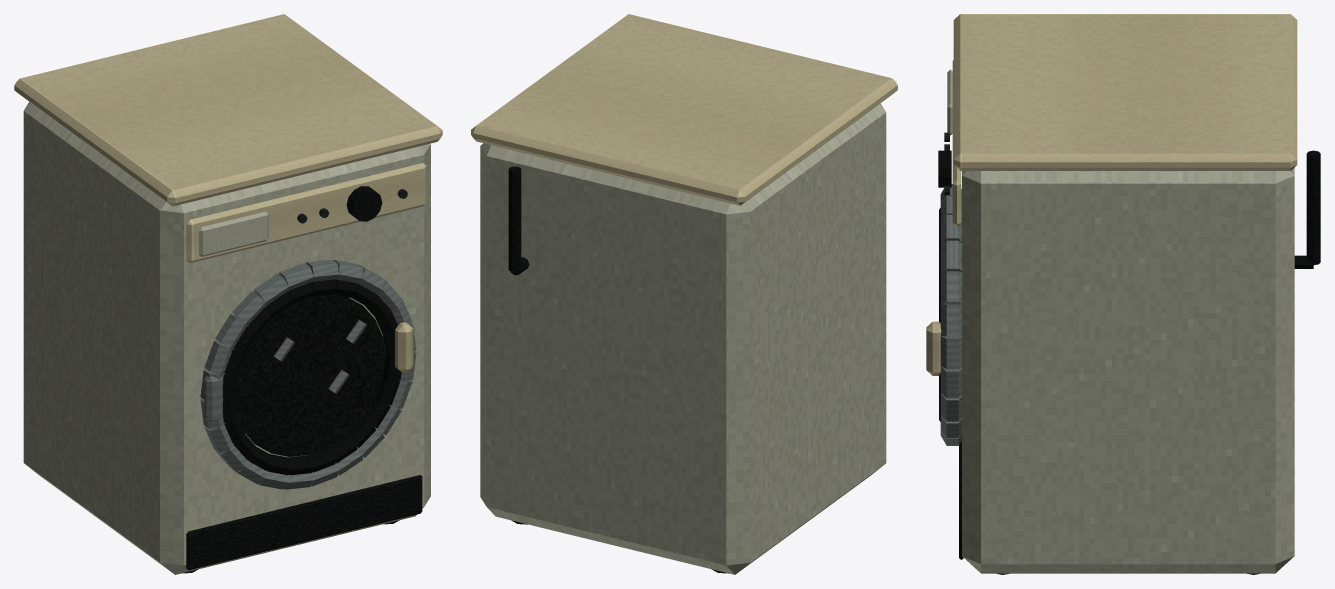
File: level_laundry_washer.glb
The picture shows the model from 3 angles, left to right: view 1: azimuth 30°, elevation 25°; view 2: azimuth 150°, elevation 25°; view 3: azimuth 270°, elevation 25°; orthographic projection. The views are drawn at different scales.
Parts seen in each view (by area): view 1: level_laundry_washer; view 2: level_laundry_washer; view 3: level_laundry_washer.
Boxes of the visible parts, x1=… form: level_laundry_washer: x1=14, y1=14, x2=442, y2=574; level_laundry_washer: x1=471, y1=14, x2=897, y2=574; level_laundry_washer: x1=926, y1=14, x2=1320, y2=574.
Bounding box in the file's own units: 0.63 × 0.8725 × 0.7235.
5 materials, 5 textured.
